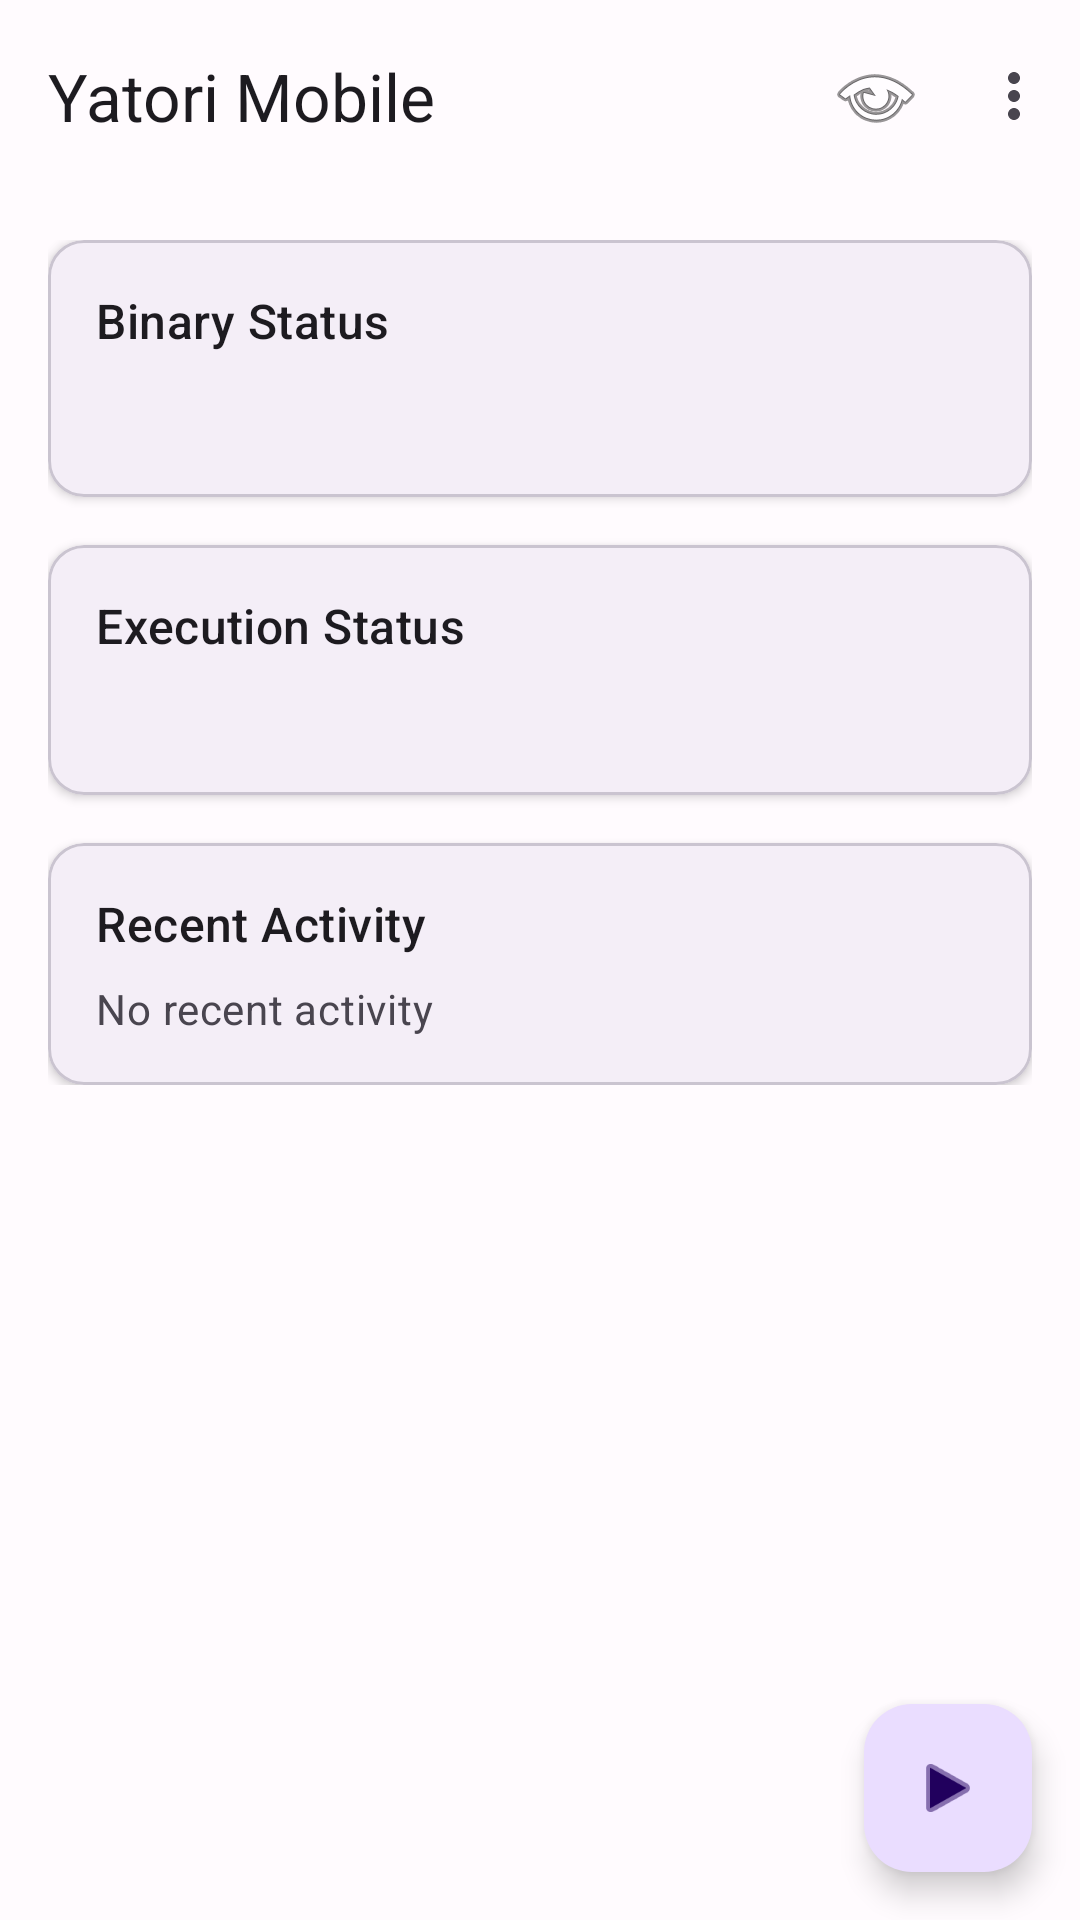

Icons on this 1080 x 1920 Android screen, each with the point to tap as [x,y]:
Main action: [948,1788]
